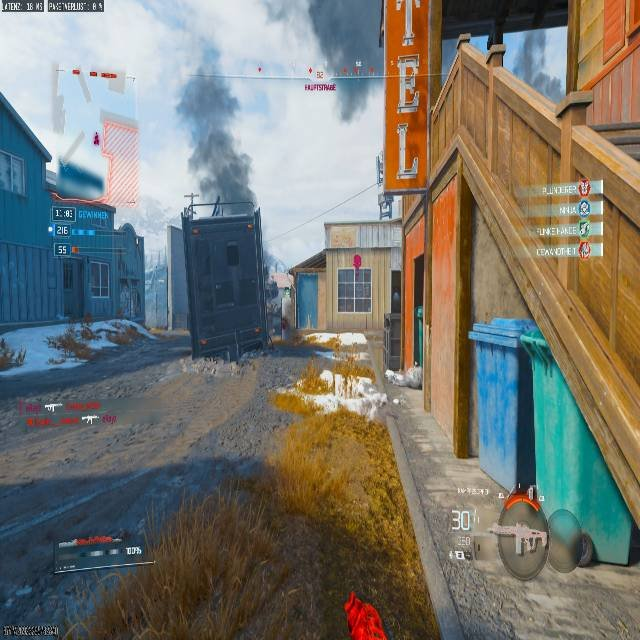player: (262, 284, 288, 341), (281, 315, 290, 334)
